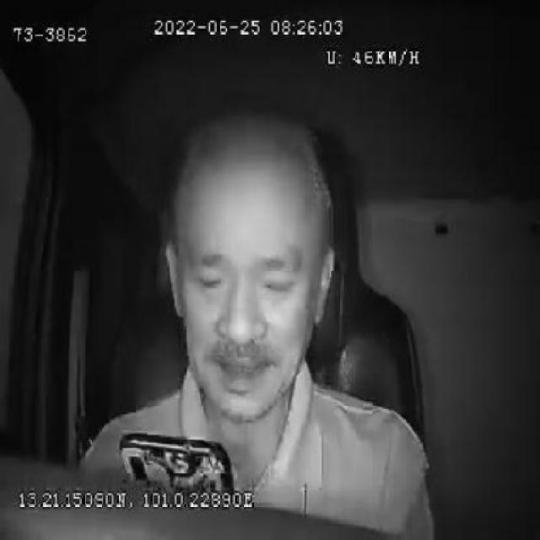phone: (119, 439, 237, 494)
